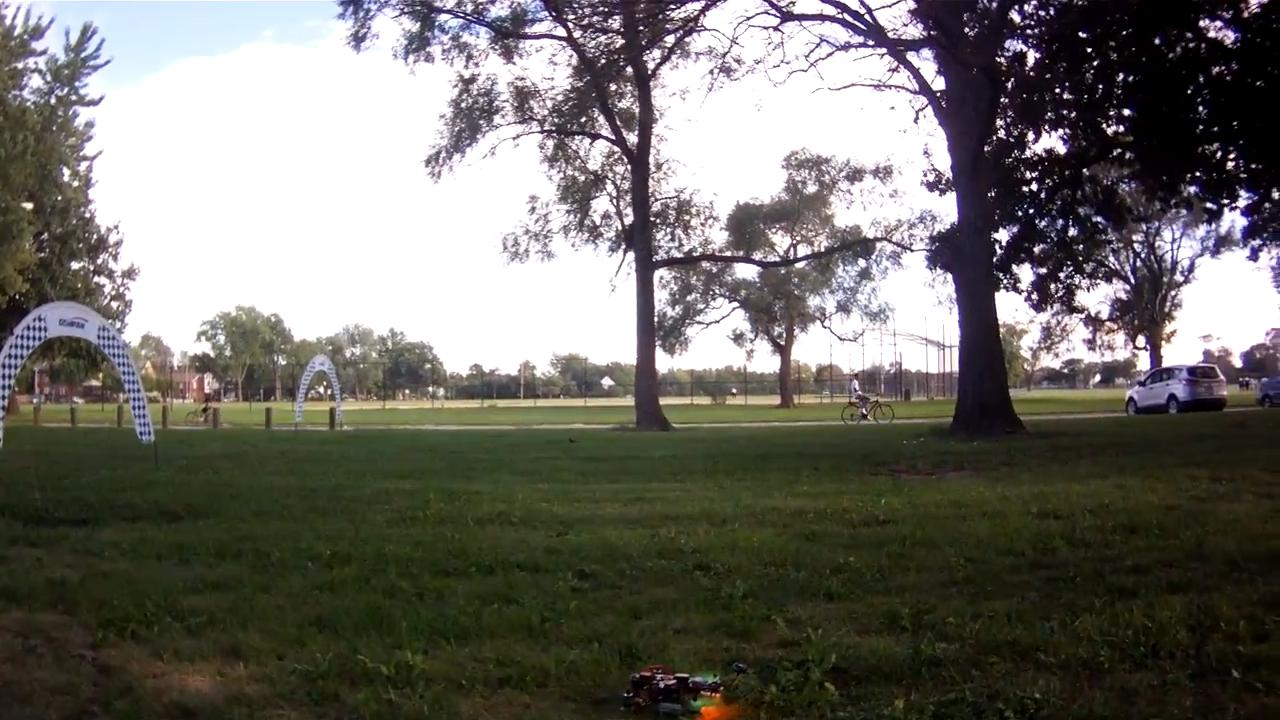gate: (1, 300, 155, 453)
